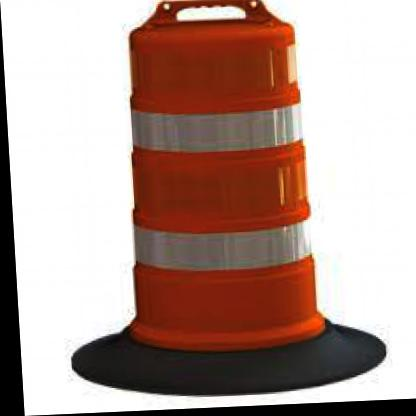obstacle: (93, 0, 335, 365)
